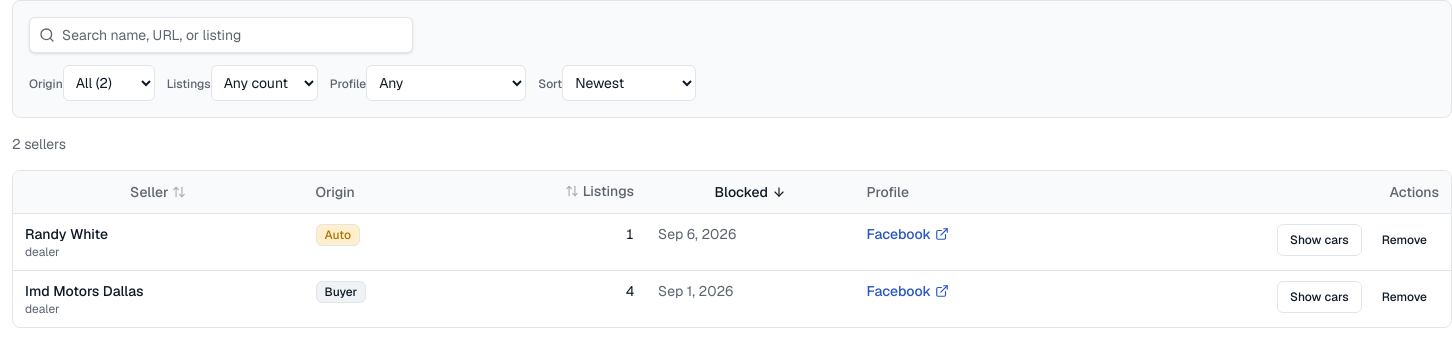
it: BlockedSellersClient › sorts newest first and filters by origin
The image size is (1452, 345).
Expected: the text "Randy White" is shown, [25,225,108,243]
Expected: the text "Imd Motors Dallas" is shown, [25,282,144,300]
Select "Buyer (1)" in the dropdown labelled "Origin". click: (109, 83)
box: [63,65,155,101]
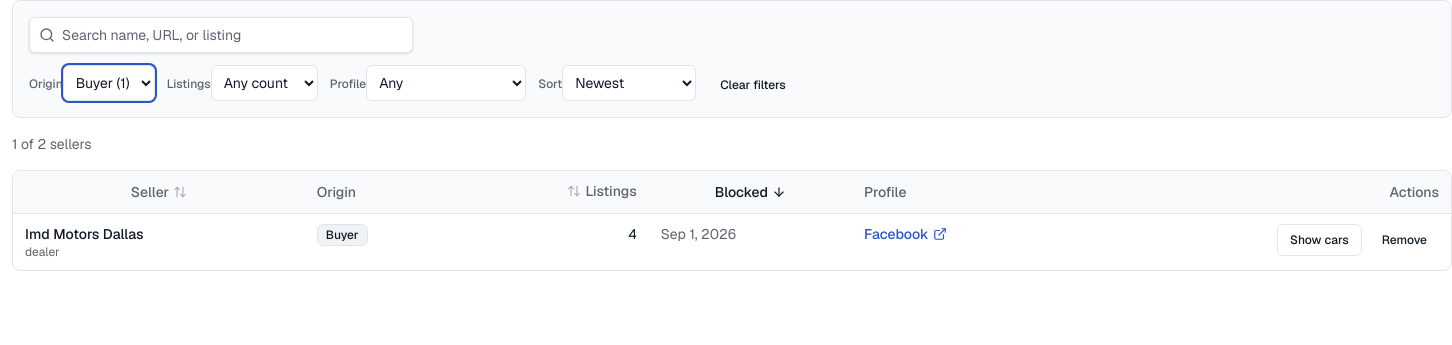
Now the text "Randy White" is gone
Now the text "1 of 2 sellers" is shown, box [12,135,92,153]
Now the button "Clear filters" is shown, box [708,69,798,101]
